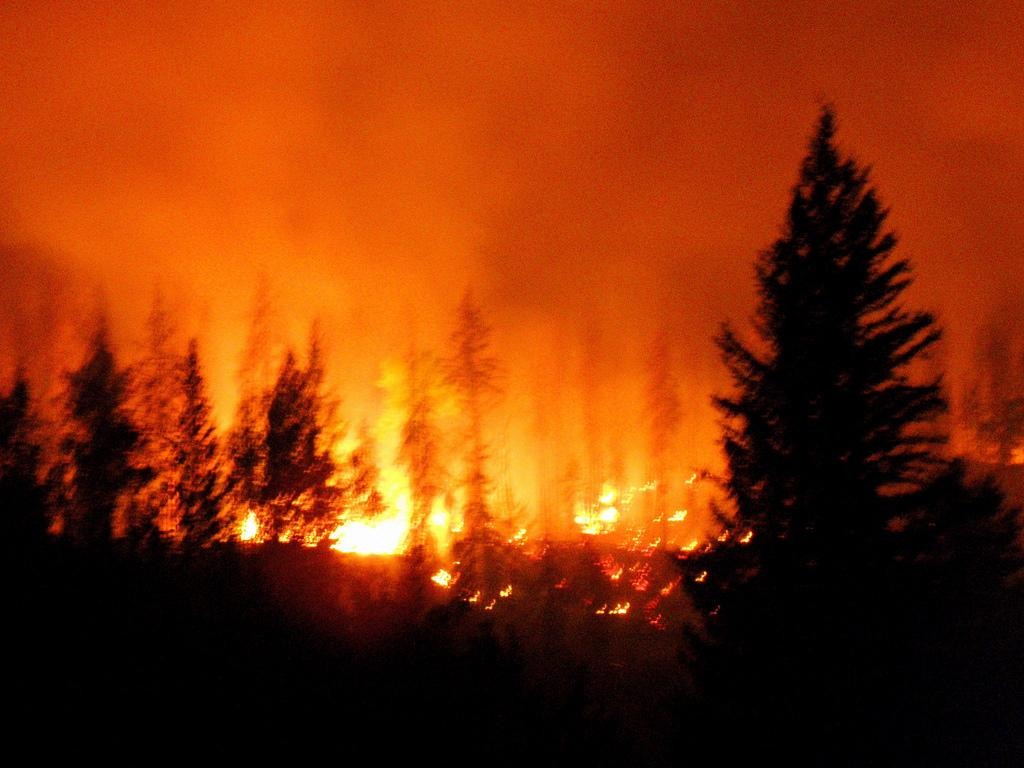fire: (332, 494, 430, 562)
